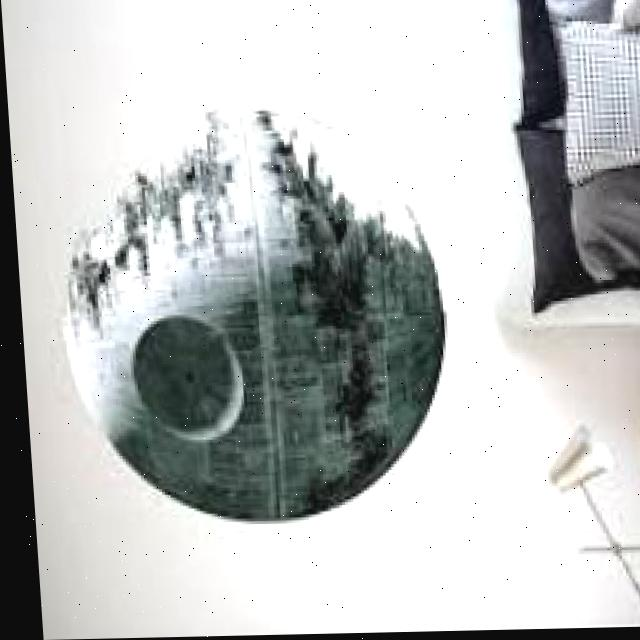deathstar: (50, 112, 444, 524)
